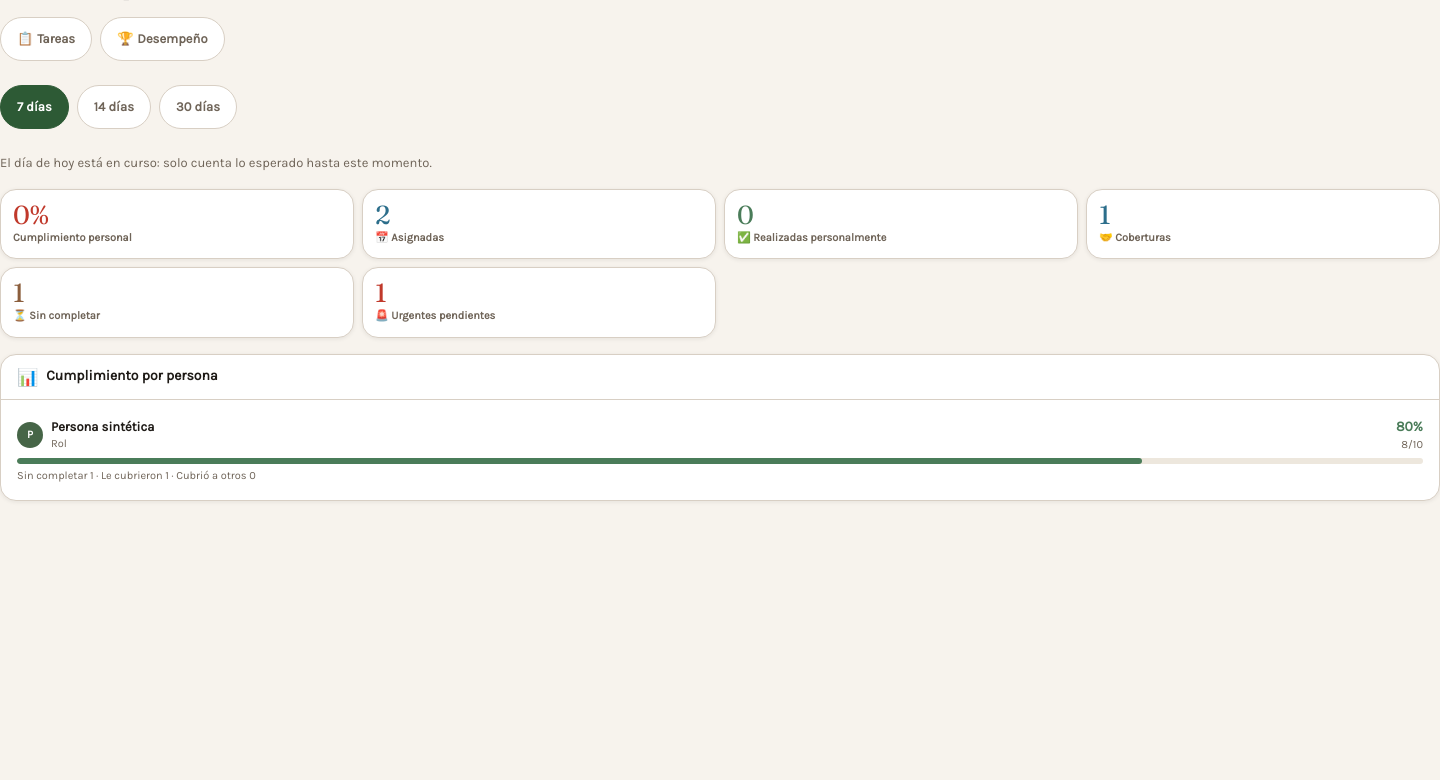
it: PerformanceScreen › muestra las métricas personales del backend (8/10 = 80%) y las coberturas por separado
The image size is (1440, 780).
Expected: the text "80%" is shown, top-left (1396, 416), bottom-right (1423, 437)
Expected: the text "8/10" is shown, top-left (1401, 438), bottom-right (1423, 451)
Click the button "Persona sintética": {"x": 103, "y": 426} top-left (17, 408), bottom-right (1423, 492)
(page scrolled)
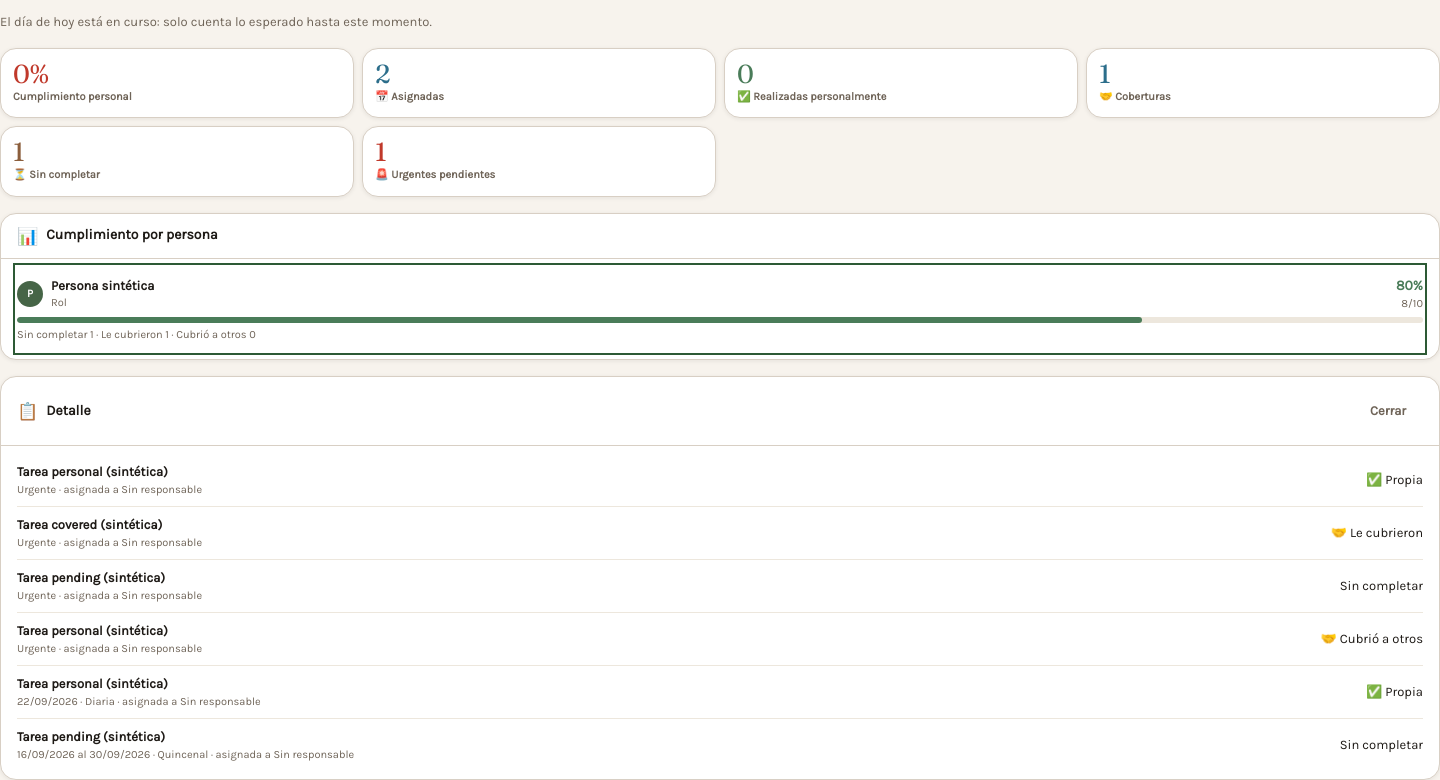
Result: the text "✅ Propia" is shown 2 times at top-left (1366, 470), bottom-right (1423, 490); top-left (1366, 682), bottom-right (1423, 702)
Result: the text "🤝 Le cubrieron" is shown at top-left (1331, 523), bottom-right (1423, 543)
Result: the text "Sin completar" is shown 2 times at top-left (1340, 576), bottom-right (1423, 596); top-left (1340, 735), bottom-right (1423, 755)
